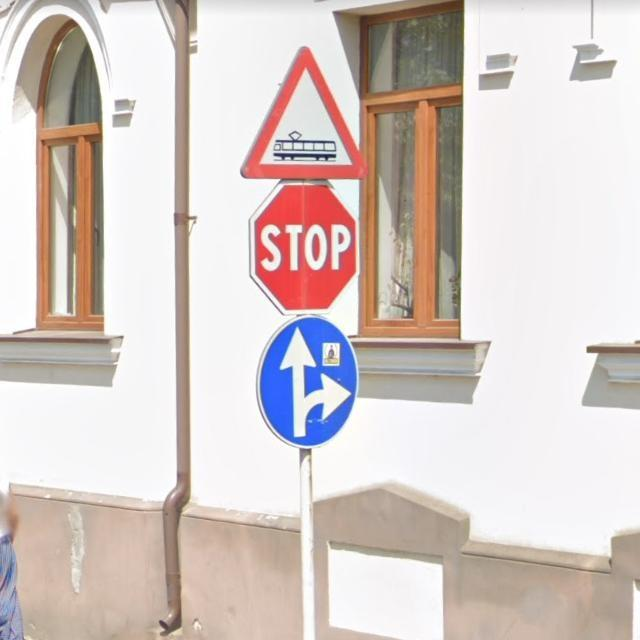prio_stop: (248, 181, 361, 314)
